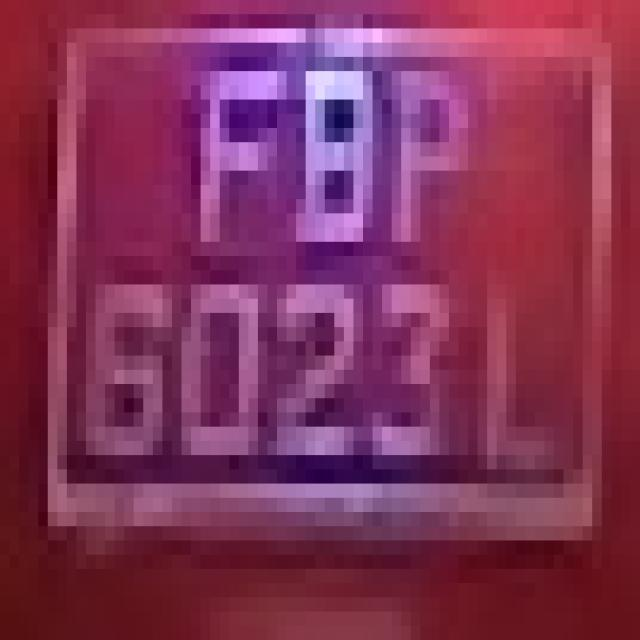0: (172, 270, 267, 484)
2: (248, 270, 363, 470)
3: (344, 284, 439, 498)
6: (57, 213, 172, 512)
B: (277, 43, 382, 313)
F: (191, 0, 277, 270)
L: (468, 284, 583, 512)
P: (373, 57, 487, 270)
